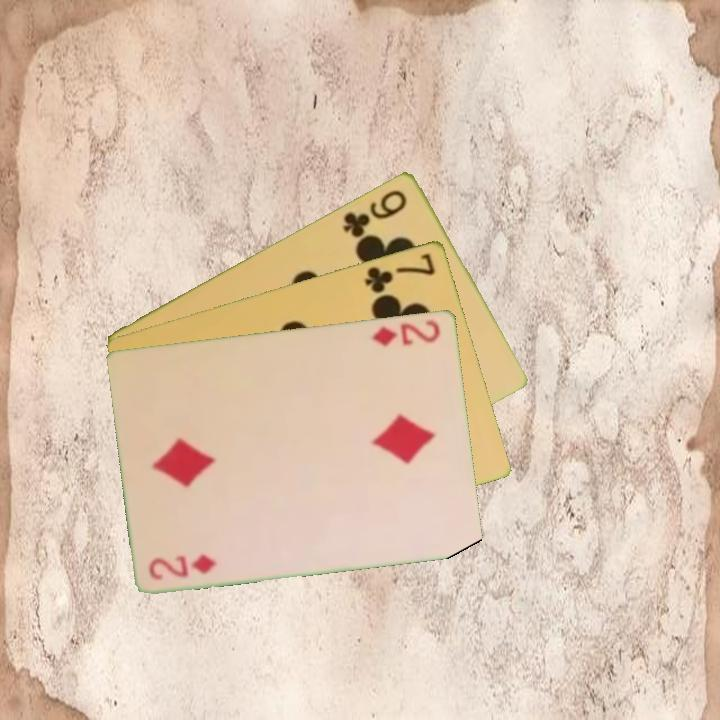2d: (368, 316, 443, 349), (145, 550, 219, 583)
7c: (361, 249, 439, 296)
9c: (339, 185, 410, 240)
